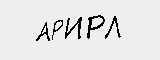А: (21, 22, 35, 38)
Г: (35, 18, 51, 37)
Л: (46, 15, 68, 34)
М: (121, 15, 145, 35)
О: (69, 13, 95, 28)
Ұ: (98, 14, 120, 28)
